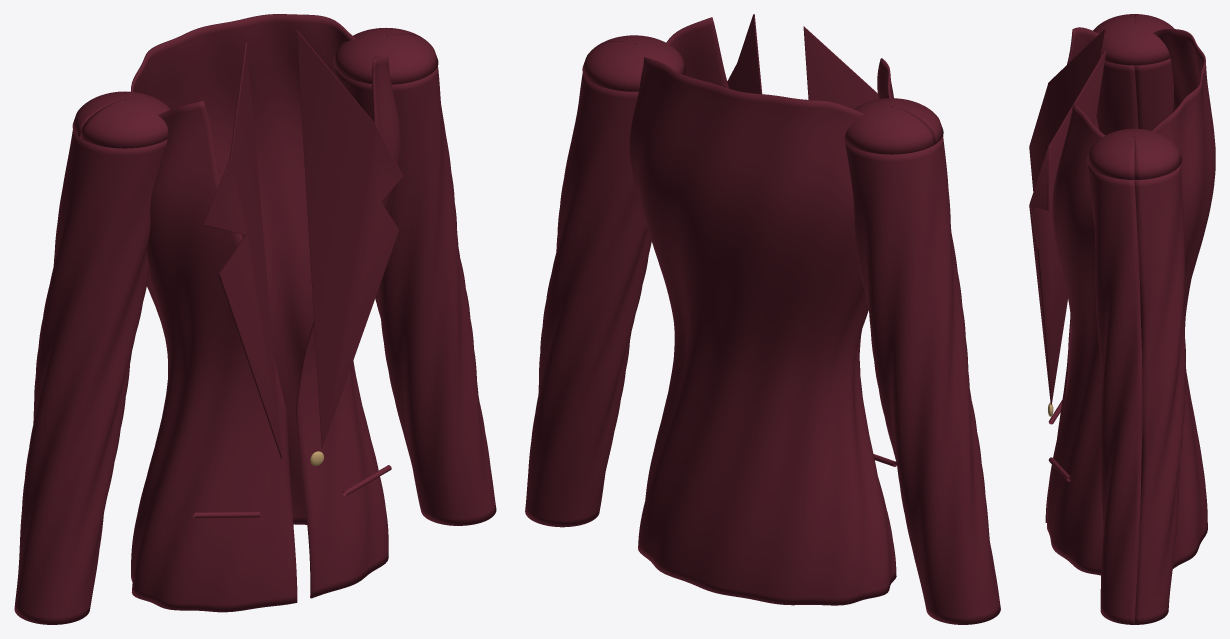
File: evening-blazer.glb
3 views of the same model, side by side, from view 1: azimuth 30°, elevation 25°; view 2: azimuth 150°, elevation 25°; view 3: azimuth 270°, elevation 25° (orthographic). The views are drawn at different scales.
Visible parts, largest first — view 1: Blazer_Body, Blazer_Sleeve, Blazer_Sleeve.001, Blazer_Notched_Lapel.001, Blazer_Notched_Lapel, Blazer_Shoulder, Blazer_Shoulder.001; view 2: Blazer_Body, Blazer_Sleeve, Blazer_Sleeve.001, Blazer_Shoulder, Blazer_Shoulder.001, Blazer_Notched_Lapel, Blazer_Notched_Lapel.001; view 3: Blazer_Sleeve.001, Blazer_Body, Blazer_Notched_Lapel.001, Blazer_Sleeve, Blazer_Shoulder.001, Blazer_Notched_Lapel, Blazer_Shoulder.
Boxes of the visible parts, <box> form: Blazer_Body: <box>131,14,400,612</box>; Blazer_Sleeve: <box>14,130,167,624</box>; Blazer_Sleeve.001: <box>335,66,496,525</box>; Blazer_Notched_Lapel.001: <box>296,30,403,448</box>; Blazer_Notched_Lapel: <box>202,42,282,458</box>; Blazer_Shoulder: <box>72,91,170,148</box>; Blazer_Shoulder.001: <box>333,28,438,84</box>; Blazer_Body: <box>629,17,896,605</box>; Blazer_Sleeve: <box>845,136,1000,624</box>; Blazer_Sleeve.001: <box>525,73,651,527</box>; Blazer_Shoulder: <box>844,98,943,154</box>; Blazer_Shoulder.001: <box>582,35,685,91</box>; Blazer_Notched_Lapel: <box>803,26,878,108</box>; Blazer_Notched_Lapel.001: <box>727,14,762,93</box>; Blazer_Sleeve.001: <box>1088,163,1185,624</box>; Blazer_Body: <box>1045,27,1215,575</box>; Blazer_Notched_Lapel.001: <box>1029,50,1106,404</box>; Blazer_Sleeve: <box>1096,58,1173,135</box>; Blazer_Shoulder.001: <box>1087,128,1181,179</box>; Blazer_Notched_Lapel: <box>1029,28,1106,191</box>; Blazer_Shoulder: <box>1093,14,1174,65</box>.
Size of the model in its own units: 1.88 by 2.06 by 0.7154.
